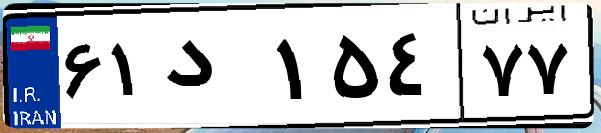1: (270, 28, 330, 110), (110, 28, 158, 98)
4: (385, 28, 445, 110)
5: (330, 28, 385, 110)
6: (57, 26, 110, 100)
7: (475, 38, 525, 113), (525, 38, 570, 115)
د: (158, 20, 270, 120)
